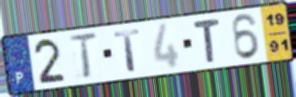2: (33, 37, 67, 86)
4: (152, 21, 184, 71)
6: (230, 13, 262, 62)
T: (67, 31, 99, 81), (191, 17, 222, 64), (112, 27, 143, 73)
